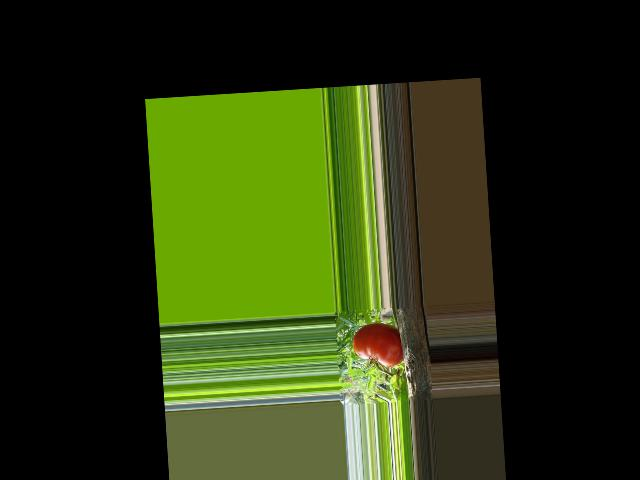tomato: (351, 322, 404, 369)
